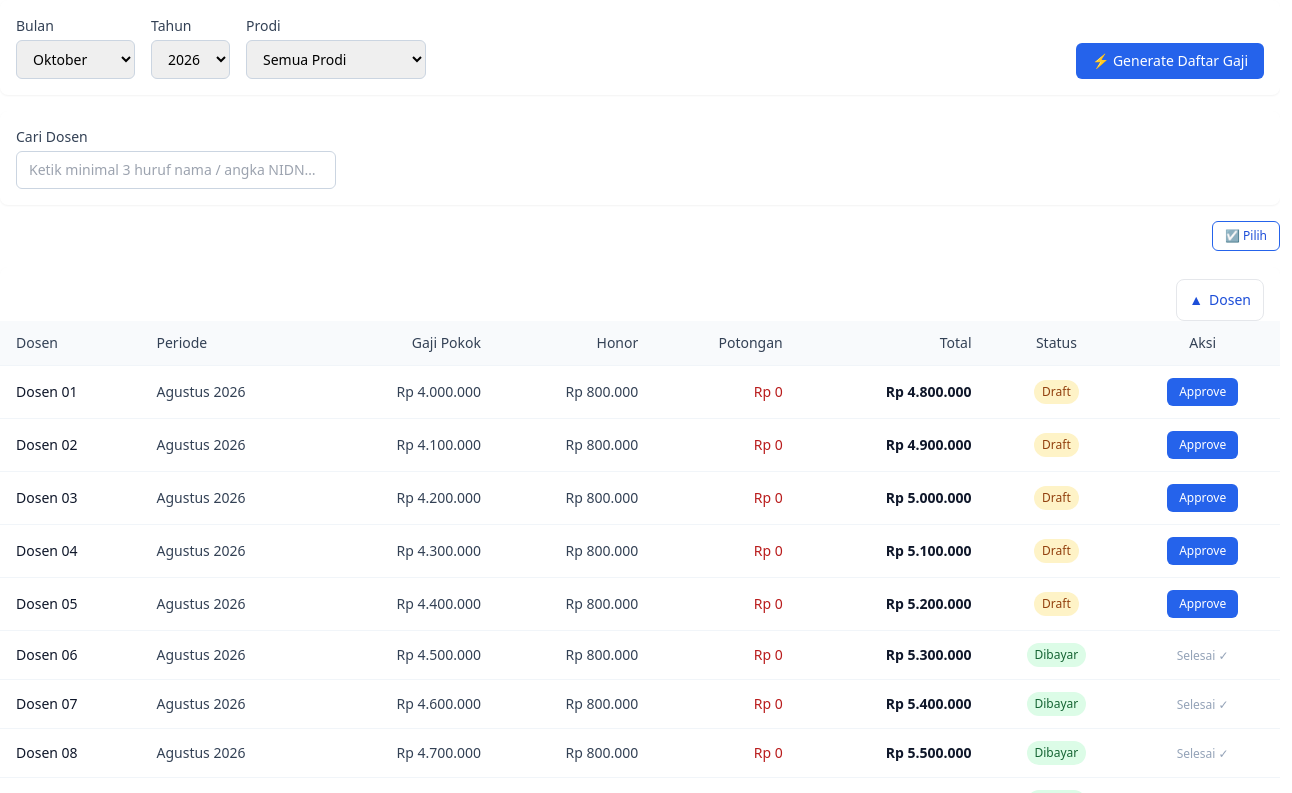
Scenario: FinancePayrollPage › mode Pilih: checkbox muncul, Approve Semua memanggil API utk tiap draft terpilih, Batal mengosongkan
The image size is (1292, 793).
Expected: the text "Dosen 01" is shown, [0,366,140,418]
# Masuk mode pilih → checkbox muncul di kanan kolom aksi
Click the button "☑ Pilih": click(1246, 236) [1212,221,1280,251]
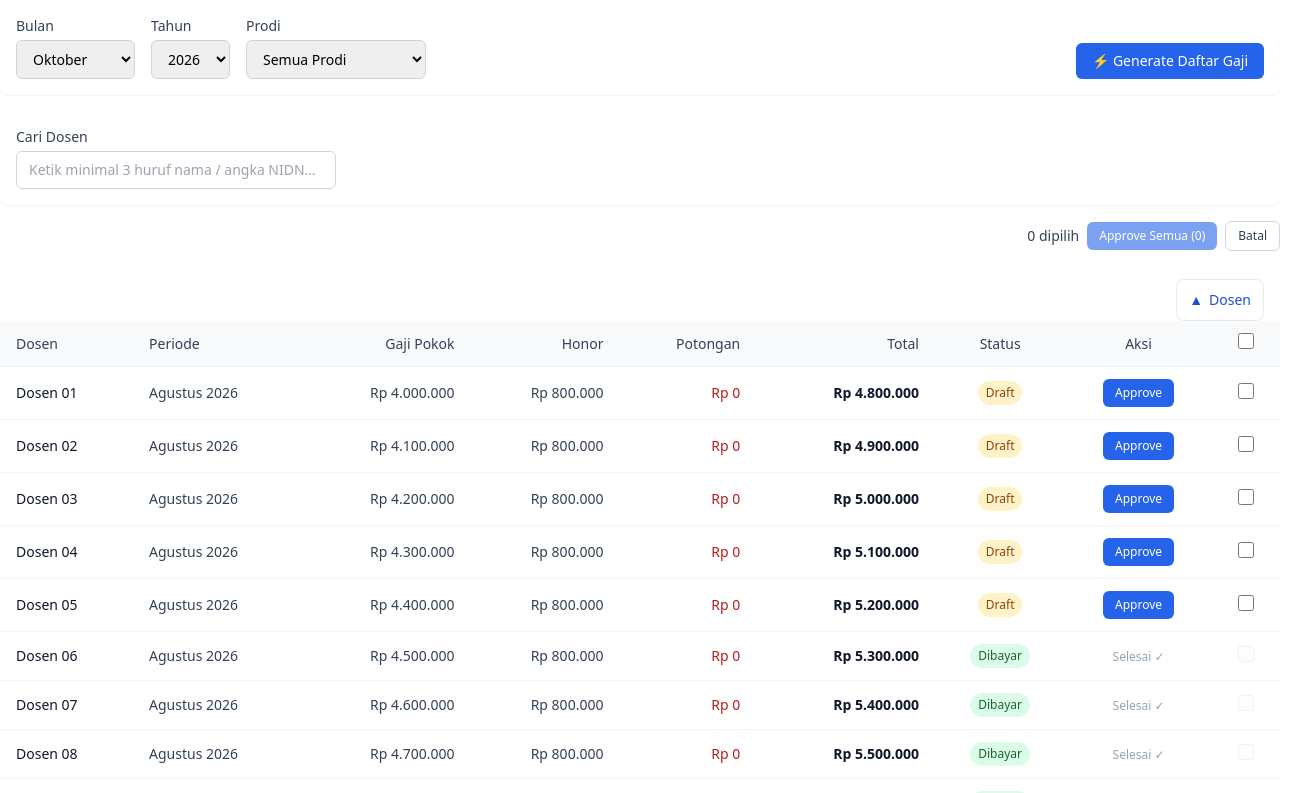
# Centang 2 draft pertama
Click the checkbox named "Pilih payroll Dosen 01": click(1246, 390) [1238,382,1254,398]
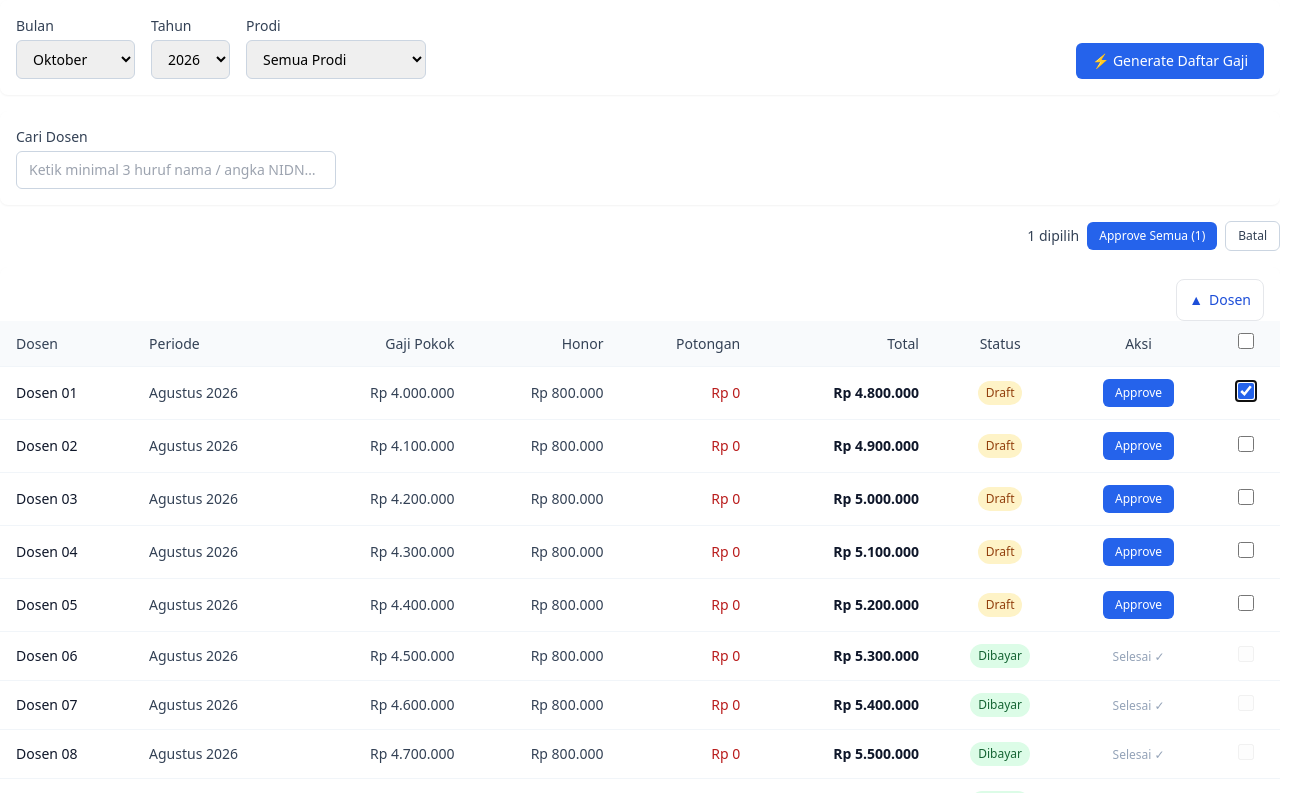
Click the checkbox named "Pilih payroll Dosen 02": click(1246, 444) [1238,436,1254,452]
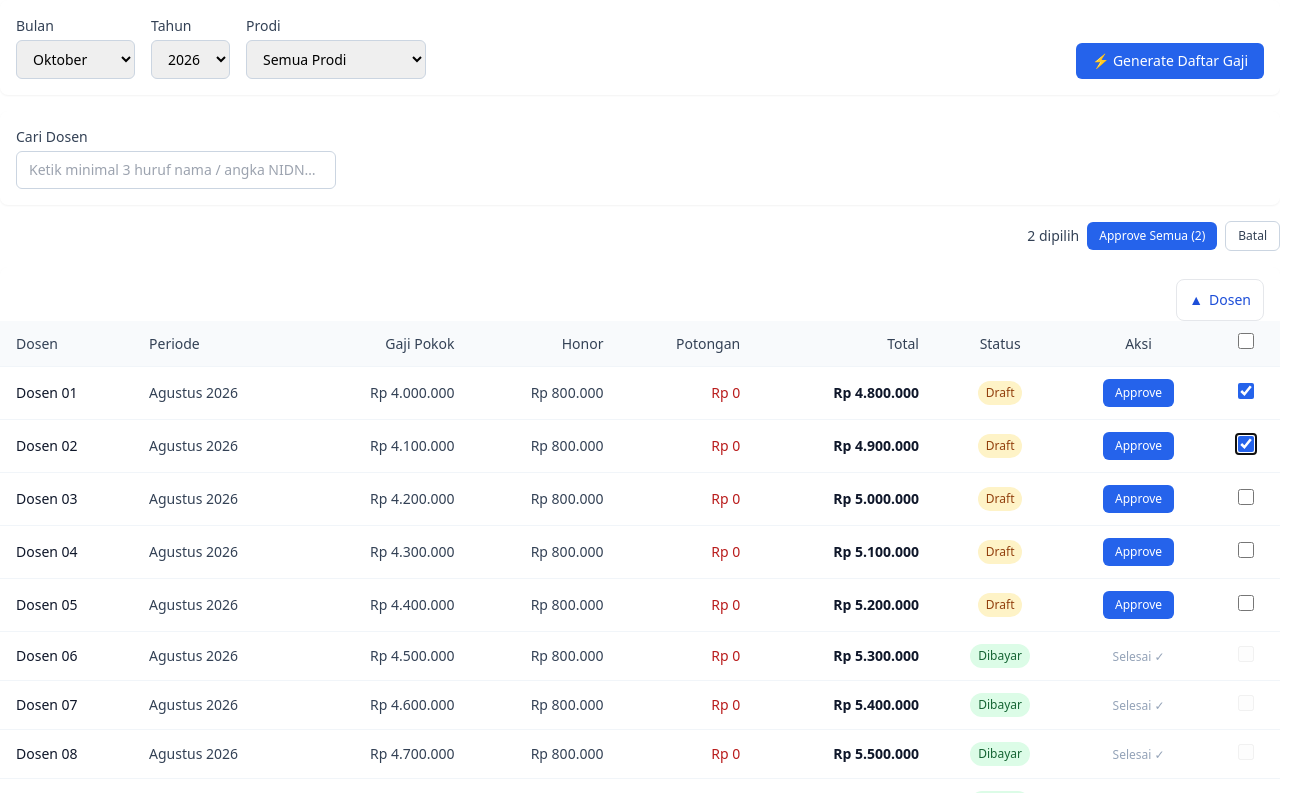
Now the text "2 dipilih" is shown, box [1027,226,1079,246]
# Approve Semua
Click the button "Approve Semua (2)": click(1152, 236) [1087,222,1217,250]
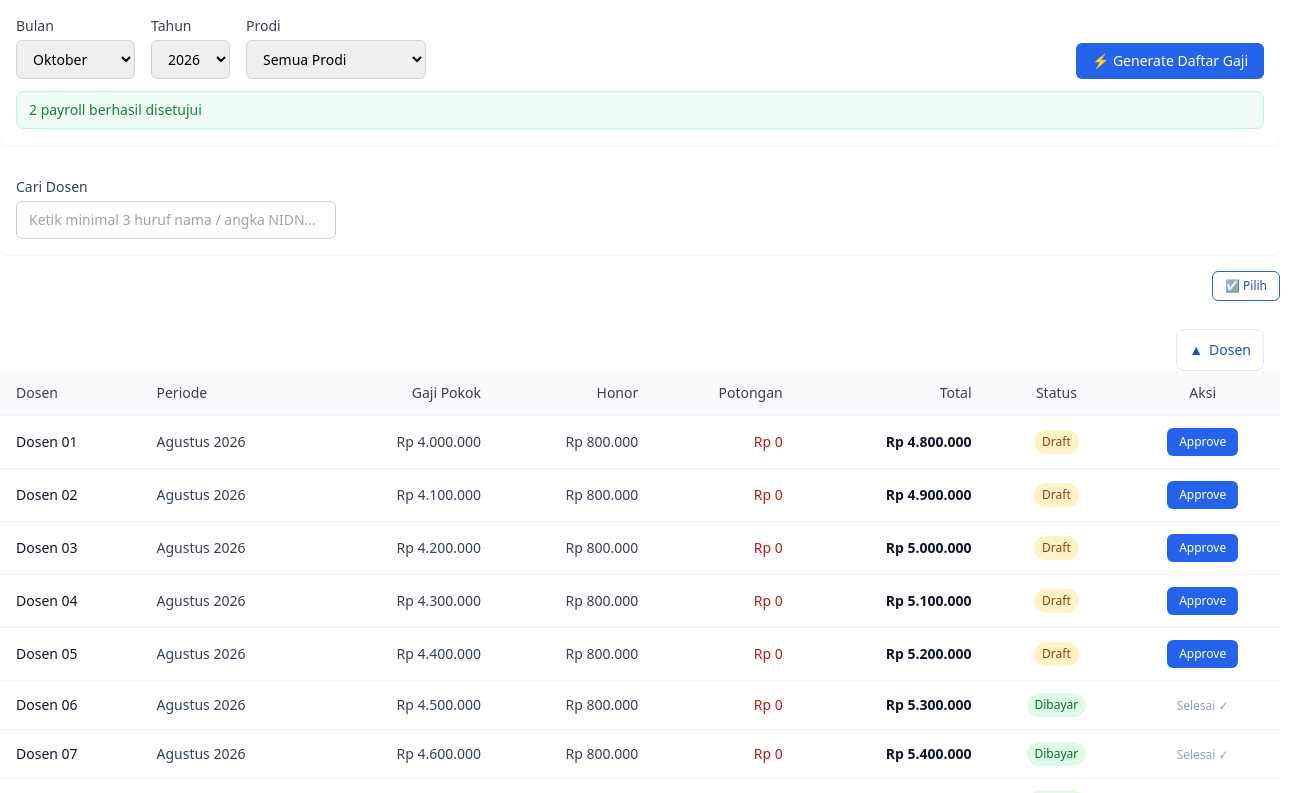
Now the message reads "2 payroll berhasil disetujui", box [29,100,202,119]
Now the button "☑ Pilih" is enabled, box [1212,271,1280,301]
